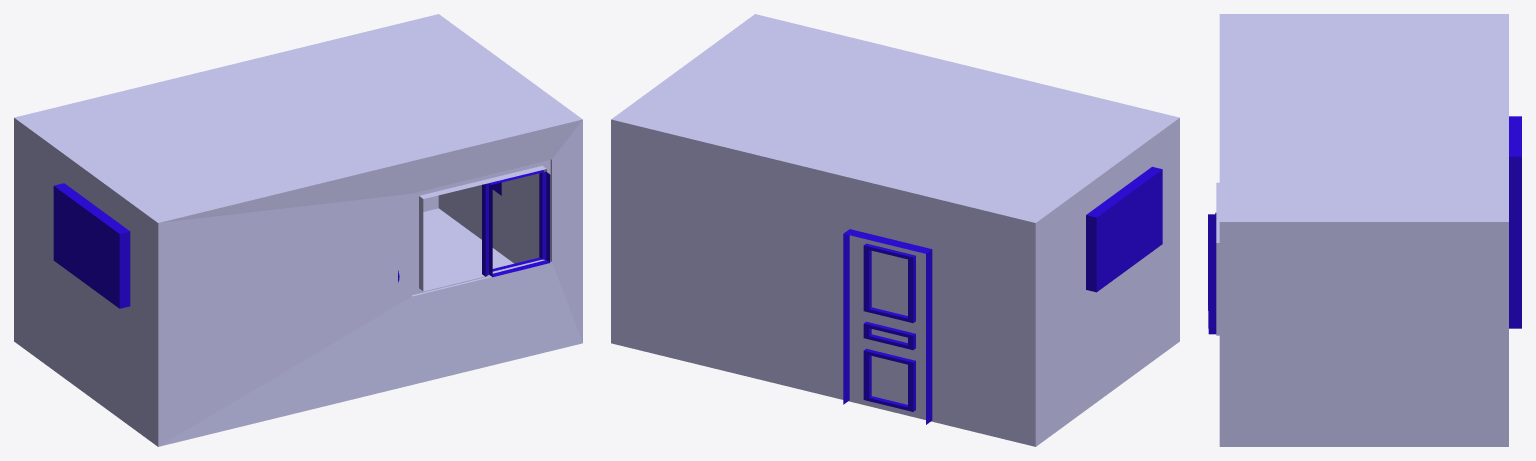
Rendered from room_colored.glb.
3 views of the same model, side by side, from view 1: azimuth 30°, elevation 25°; view 2: azimuth 150°, elevation 25°; view 3: azimuth 270°, elevation 25° (orthographic).
Parts seen in each view (by area): view 1: Walls, Cube.002, Cube.003, Walls.001; view 2: Walls, Cube.002, Doors.001, Doors, Cube.003; view 3: Walls, Cube.003, Doors, Walls.001.
Boxes of the visible parts, x1=… form: Walls: x1=14, y1=14, x2=582, y2=446; Cube.002: x1=53, y1=183, x2=130, y2=308; Cube.003: x1=423, y1=208, x2=513, y2=286; Walls.001: x1=482, y1=170, x2=550, y2=277; Walls: x1=611, y1=14, x2=1179, y2=446; Cube.002: x1=1086, y1=166, x2=1162, y2=292; Doors.001: x1=863, y1=243, x2=915, y2=411; Doors: x1=843, y1=229, x2=932, y2=424; Cube.003: x1=611, y1=314, x2=703, y2=352; Walls: x1=1216, y1=14, x2=1508, y2=446; Cube.003: x1=1291, y1=417, x2=1508, y2=433; Doors: x1=1509, y1=116, x2=1521, y2=328; Walls.001: x1=1208, y1=212, x2=1216, y2=334.
Size of the model in its own units: 6.11 by 3 by 3.8.
